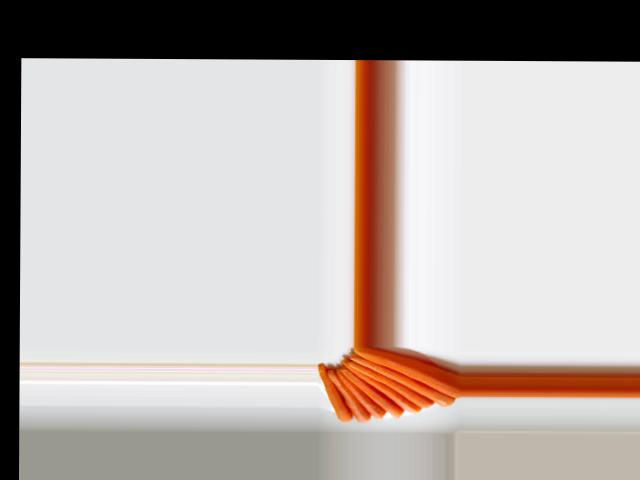carrot: (355, 348, 460, 395)
